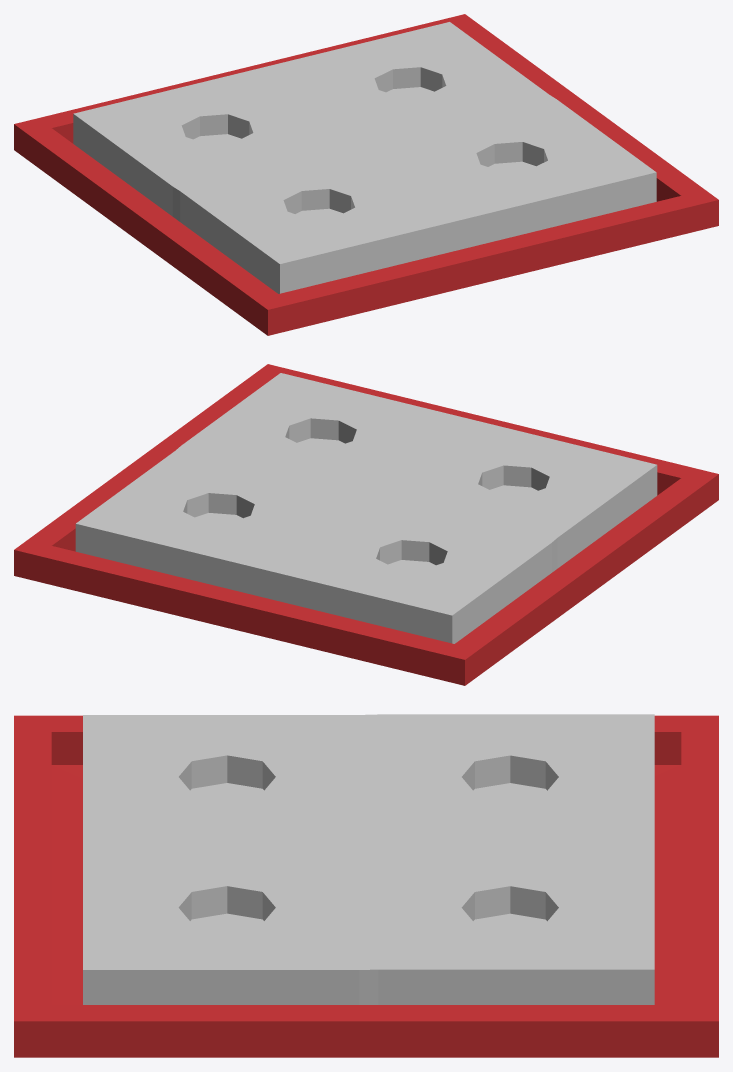
File: Floor_Button.fbx
3 renders of one model, top to bottom at view 1: azimuth 30°, elevation 25°; view 2: azimuth 150°, elevation 25°; view 3: azimuth 270°, elevation 25°, orthographic. The views are drawn at different scales.
Visible parts, largest first — view 1: Button Housing, Button; view 2: Button Housing, Button; view 3: Button Housing, Button.
Part boxes in pixels (x1,y1,x2,y2): Button Housing: (73, 22, 656, 293); Button: (14, 14, 718, 335); Button Housing: (75, 373, 657, 643); Button: (14, 364, 718, 685); Button Housing: (83, 714, 654, 1004); Button: (14, 715, 718, 1057).
Bounding box in the file's own units: 491 × 46.97 × 479.
